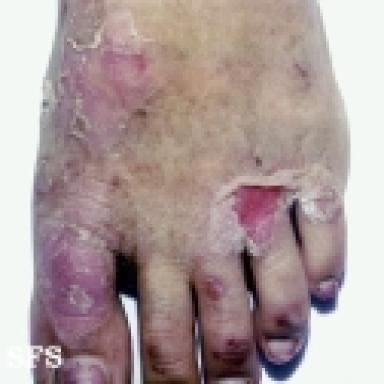Epidermolysis-Bullosa-Pruriginosa: (42, 0, 164, 156), (207, 160, 345, 259), (39, 211, 114, 348), (213, 337, 250, 364), (275, 302, 306, 331), (144, 341, 167, 380), (203, 276, 226, 300)
